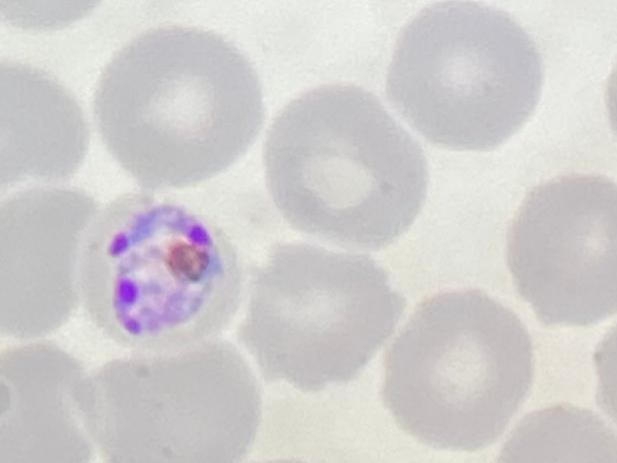Infected: (77, 195, 243, 351)
Uninfected: (266, 83, 430, 252), (96, 26, 262, 186), (381, 287, 532, 449), (242, 240, 401, 390), (384, 0, 540, 152), (88, 341, 263, 462), (507, 173, 617, 320), (1, 185, 98, 337), (0, 339, 101, 459), (2, 61, 88, 194)
